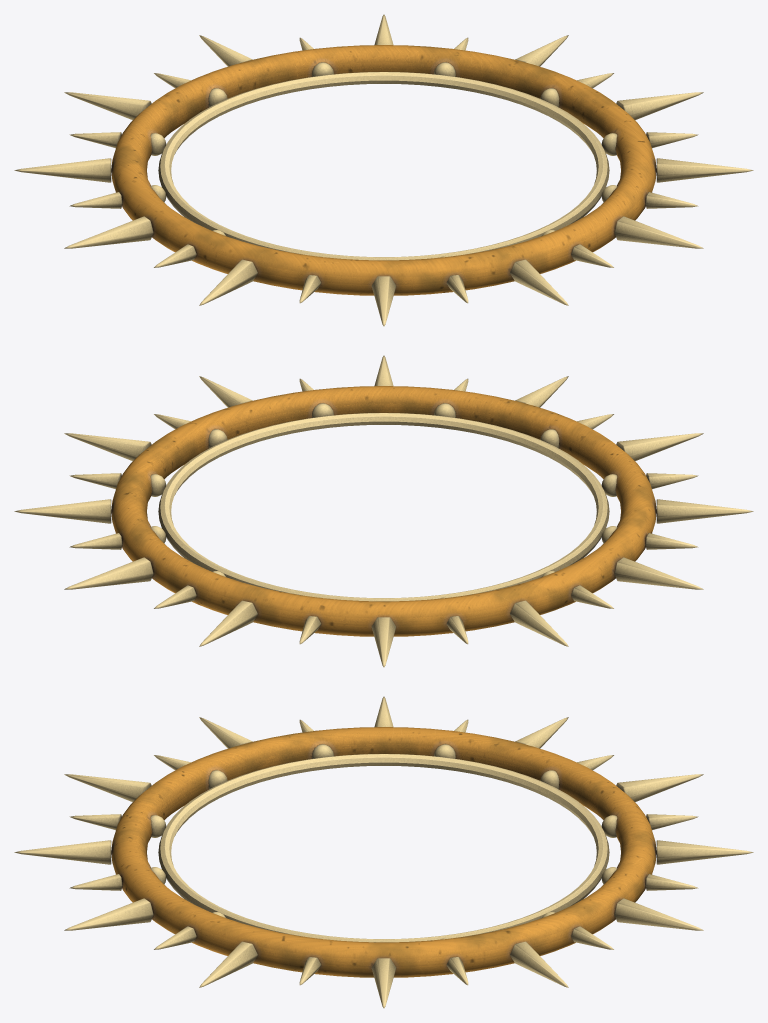
Rendered from GoldHalo.fbx.
3 views of the same model, one above another, from view 1: azimuth 30°, elevation 25°; view 2: azimuth 150°, elevation 25°; view 3: azimuth 270°, elevation 25° (orthographic).
Visible parts, largest first — view 1: GoldHalo; view 2: GoldHalo; view 3: GoldHalo.
Boxes of the visible parts, <box> form: GoldHalo: <box>14,14,753,326</box>; GoldHalo: <box>14,355,753,667</box>; GoldHalo: <box>14,696,753,1008</box>.
Size of the model in its own units: 290 by 14 by 290.
